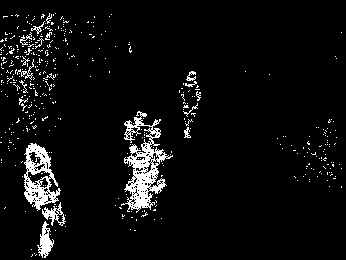person: (23, 143, 66, 257), (176, 69, 203, 143)
